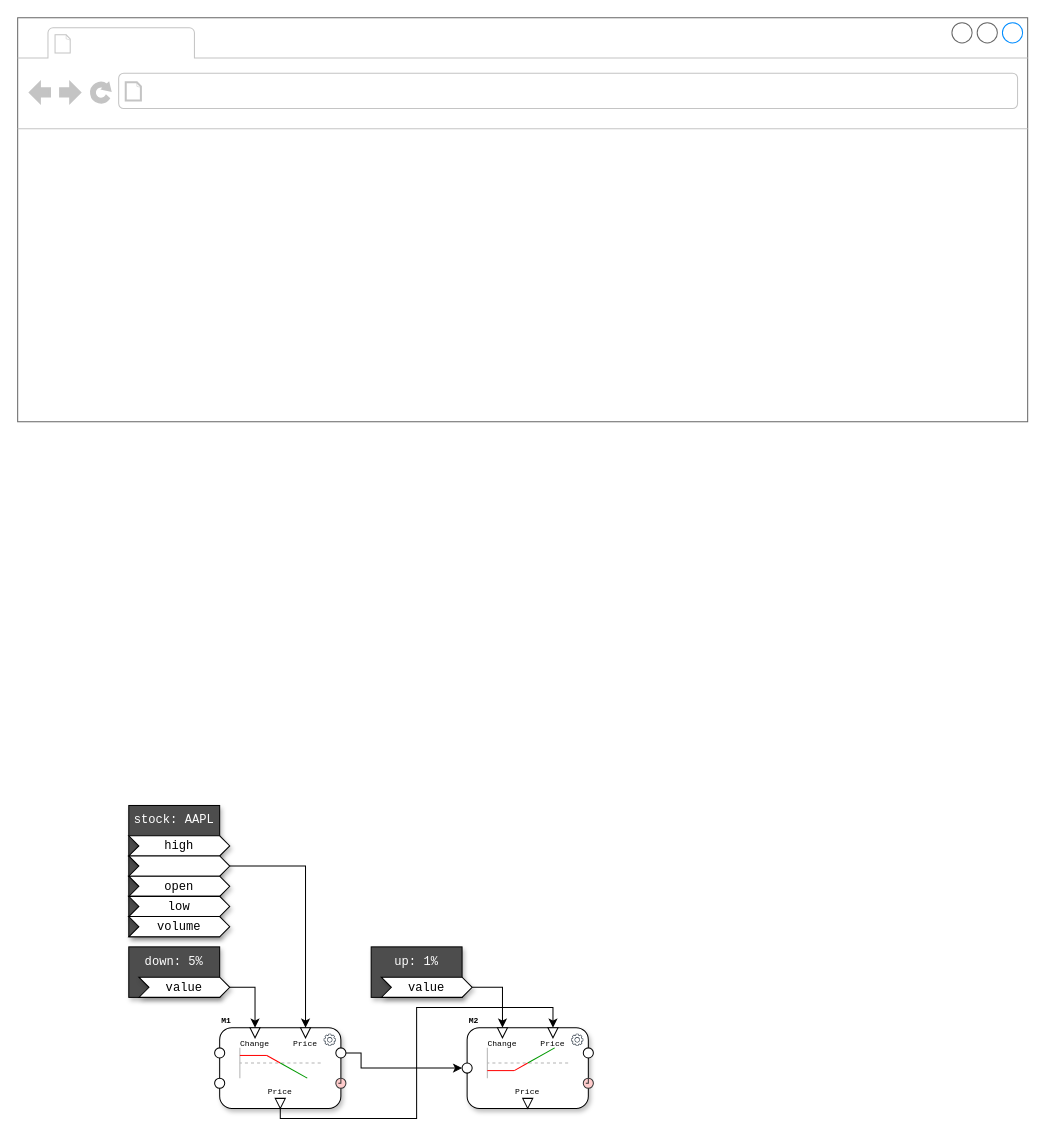
This 1045x1144 diagram has some shape labels left out. The shapes that lost their labels are listed below. From the top down, each one's centre as x and y in pixels, then its label:
At pixel 133 42: "ezTrading".
At pixel 295 91: "https://www.eztradinghub.com/lab".
At pixel 180 867: "close".
